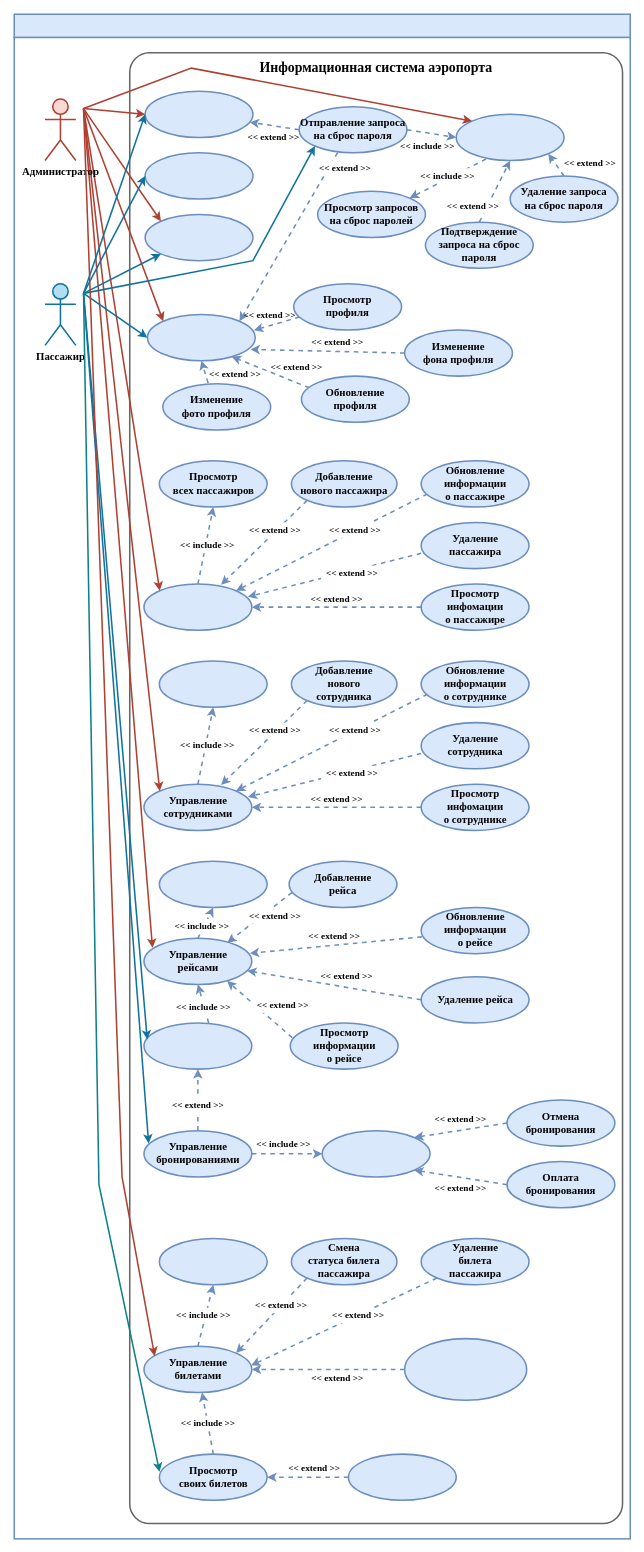
The diagram is 644 pixels wide and 1552 high, and some of its shapes have lost their labels. Here are the shapes that lost their labels. From the top down, the centre of each, then its label:
At pixel 322 25: "Диаграмма вариантов использования".
At pixel 198 114: "Авторизация по эл. почте и паролю".
At pixel 509 137: "Управление сбросами паролей".
At pixel 198 175: "Регистрация в системе".
At pixel 198 237: "Выход из системы".
At pixel 201 337: "Управление профилем".
At pixel 197 607: "Управление пассажирами".
At pixel 213 684: "Просмотр всех сотрудников".
At pixel 213 884: "Просмотр всех рейсов".
At pixel 197 1046: "Просмотр доступных рейсов".
At pixel 375 1153: "Бронирование рейса".
At pixel 213 1261: "Просмотр всех билетов пассажиров".
At pixel 465 1369: "Просмотр финансовой диаграммы со статусами оплаты билетов".
At pixel 402 1477: "Печать подтверждённых билетов".
